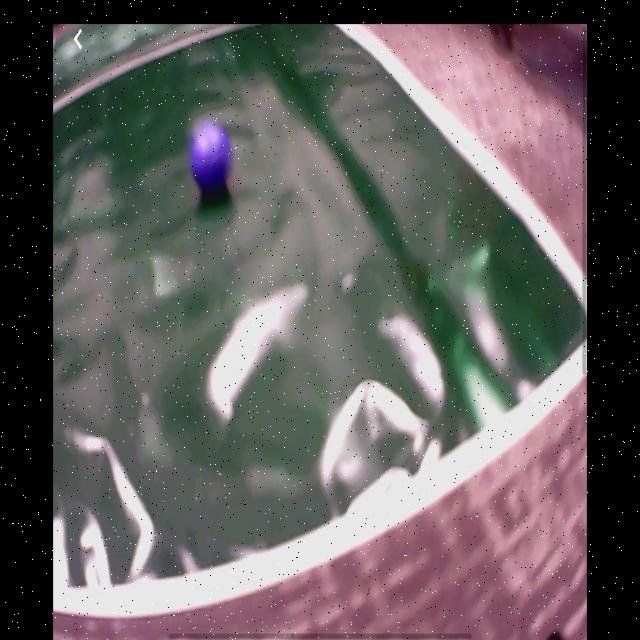ball: (189, 119, 233, 193)
